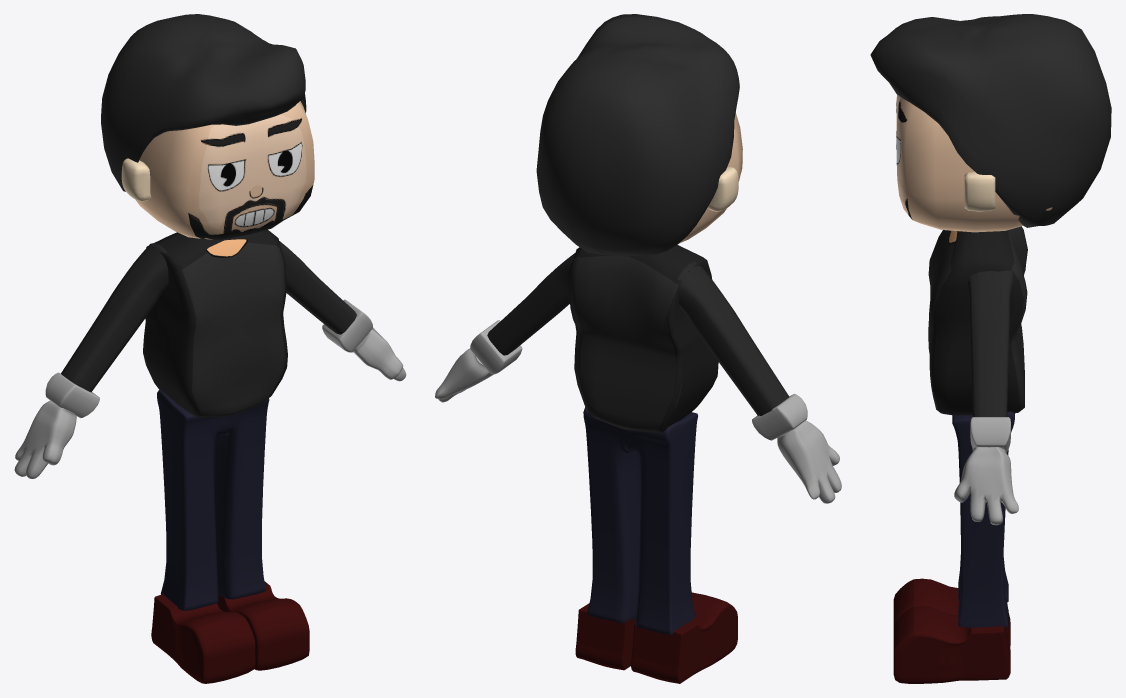
File: Fredy.fbx
3 views of the same model, side by side, from view 1: azimuth 30°, elevation 25°; view 2: azimuth 150°, elevation 25°; view 3: azimuth 270°, elevation 25° (orthographic). The views are drawn at different scales.
Parts seen in each view (by area): view 1: polySurface165, polySurface156, polySurface159, polySurface162, polySurface161, polySurface166, polySurface164, polySurface171, polySurface158, polySurface163, polySurface170, polySurface157 (+2 smaller); view 2: polySurface156, polySurface165, polySurface162, polySurface161, polySurface164, polySurface166, polySurface163, polySurface158, polySurface171, polySurface157, polySurface170, polySurface169 (+2 smaller); view 3: polySurface156, polySurface165, polySurface159, polySurface171, polySurface161, polySurface163, polySurface170, polySurface166, polySurface169, polySurface168.
Part boxes in pixels (<box>): polySurface165: <box>143,229,287,417</box>; polySurface156: <box>101,14,306,191</box>; polySurface159: <box>135,101,314,239</box>; polySurface162: <box>157,389,226,610</box>; polySurface161: <box>214,398,269,599</box>; polySurface166: <box>151,594,255,683</box>; polySurface164: <box>61,243,168,392</box>; polySurface171: <box>217,581,309,670</box>; polySurface158: <box>14,400,76,478</box>; polySurface163: <box>279,241,356,334</box>; polySurface170: <box>353,327,406,381</box>; polySurface157: <box>45,372,99,418</box>; polySurface156: <box>536,14,739,255</box>; polySurface165: <box>569,244,718,432</box>; polySurface162: <box>625,412,697,634</box>; polySurface161: <box>583,407,640,622</box>; polySurface164: <box>677,261,789,415</box>; polySurface166: <box>631,592,737,683</box>; polySurface163: <box>487,253,579,355</box>; polySurface158: <box>777,420,841,503</box>; polySurface171: <box>575,603,636,670</box>; polySurface157: <box>752,394,807,440</box>; polySurface170: <box>435,348,493,402</box>; polySurface169: <box>470,320,522,374</box>; polySurface156: <box>870,14,1111,227</box>; polySurface165: <box>928,226,1027,415</box>; polySurface159: <box>896,94,1052,232</box>; polySurface171: <box>893,606,1010,683</box>; polySurface161: <box>952,411,1014,628</box>; polySurface163: <box>968,263,1014,416</box>; polySurface170: <box>954,447,1018,525</box>; polySurface166: <box>893,578,1010,645</box>; polySurface169: <box>970,417,1010,453</box>; polySurface168: <box>964,171,995,211</box>.
Bounding box in the file's own units: 10.41 × 15.68 × 5.38.
